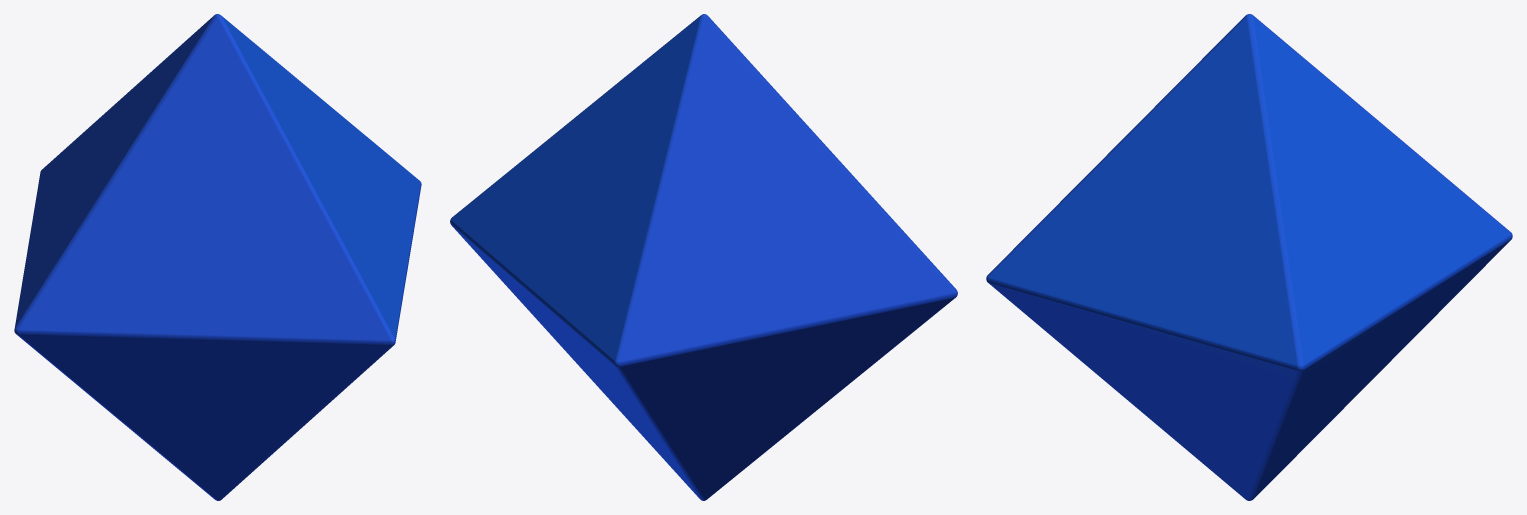
File: Adsız.fbx
The picture shows the model from 3 angles, left to right: view 1: azimuth 30°, elevation 25°; view 2: azimuth 150°, elevation 25°; view 3: azimuth 270°, elevation 25°; orthographic projection.
Visible parts, largest first — view 1: node_id47; view 2: node_id47; view 3: node_id47.
Part boxes in pixels (x1=…): node_id47: x1=14, y1=14, x2=421, y2=500; node_id47: x1=450, y1=14, x2=957, y2=500; node_id47: x1=986, y1=14, x2=1512, y2=500.
Size of the model in its own units: 0.2915 by 0.2969 by 0.2915.
1 material, 1 textured.
